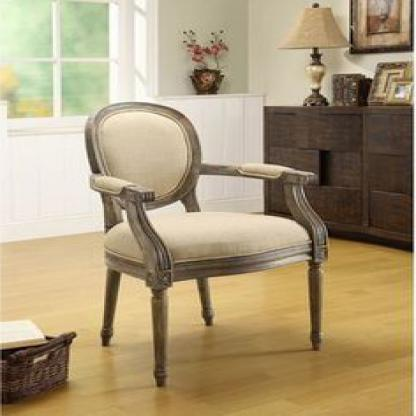chair: (78, 97, 338, 406)
light: (280, 0, 349, 109)
table: (256, 99, 416, 264)
